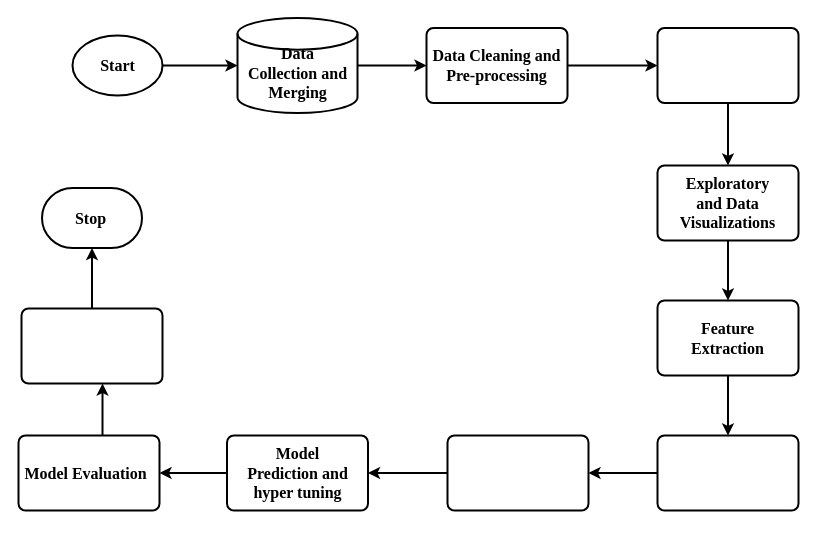
Some shapes in this 816 by 535 pixel diagram are drawn without their labels. Here are the shapes that lost their labels. From the top down, the centre of each, then its label:
the point at 727,65: Sentiment Analysis
the point at 91,345: Deployment/Testing
the point at 517,472: Model Training
the point at 727,472: Data Splitting and Sampling
